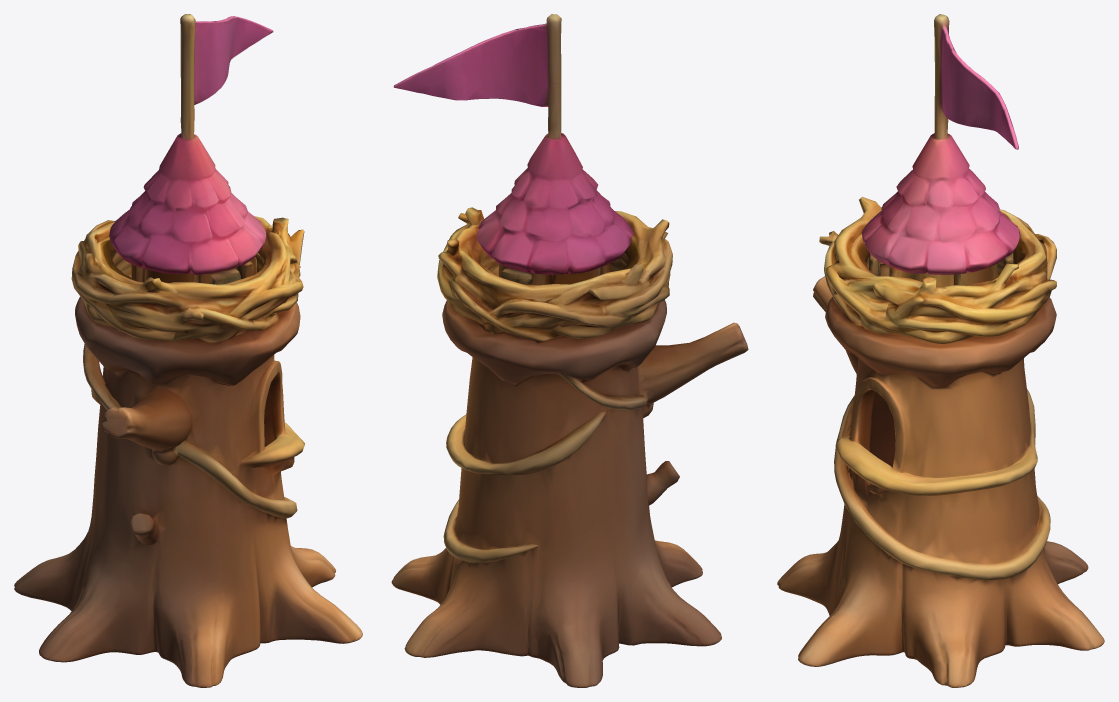
File: nest-tower.glb
The picture shows the model from 3 angles, left to right: view 1: azimuth 30°, elevation 25°; view 2: azimuth 150°, elevation 25°; view 3: azimuth 270°, elevation 25°; orthographic projection.
Parts seen in each view (by area): view 1: tripo_node_5a6e8c11-e377-44c4-b3af-3a5909f4342e; view 2: tripo_node_5a6e8c11-e377-44c4-b3af-3a5909f4342e; view 3: tripo_node_5a6e8c11-e377-44c4-b3af-3a5909f4342e.
Boxes of the visible parts, x1=… form: tripo_node_5a6e8c11-e377-44c4-b3af-3a5909f4342e: x1=14, y1=14, x2=362, y2=687; tripo_node_5a6e8c11-e377-44c4-b3af-3a5909f4342e: x1=391, y1=14, x2=748, y2=687; tripo_node_5a6e8c11-e377-44c4-b3af-3a5909f4342e: x1=777, y1=14, x2=1104, y2=687.
Bounding box in the file's own units: 0.5412 × 0.9999 × 0.4953.
Materials: 1 (1 with a texture image).
